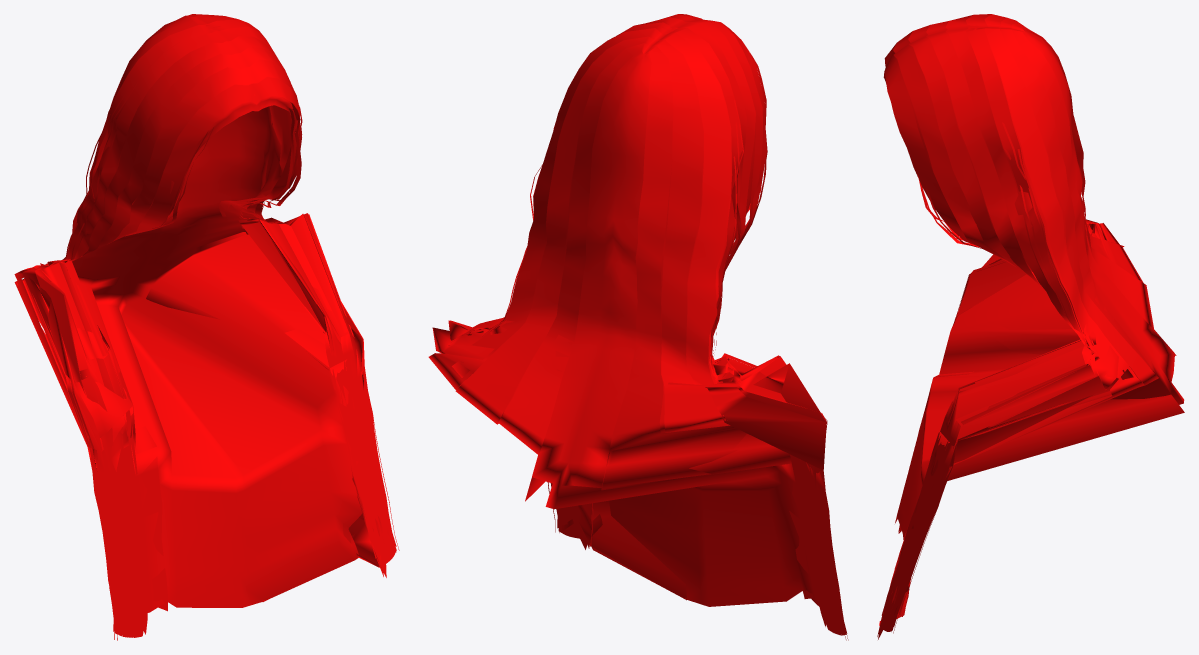
The model's file is long01_M.glb.
The picture shows the model from 3 angles, left to right: view 1: azimuth 30°, elevation 25°; view 2: azimuth 150°, elevation 25°; view 3: azimuth 270°, elevation 25°; orthographic projection. The views are drawn at different scales.
Size of the model in its own units: 0.4016 by 0.7091 by 0.35.
Materials: 1 (1 with a texture image).
